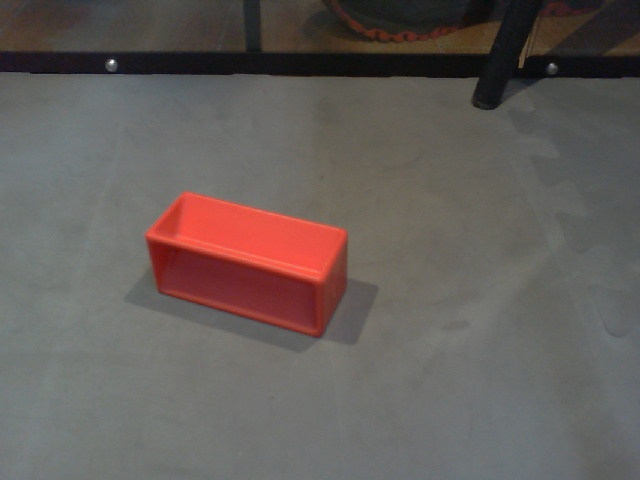RedSample: (146, 190, 349, 338)
